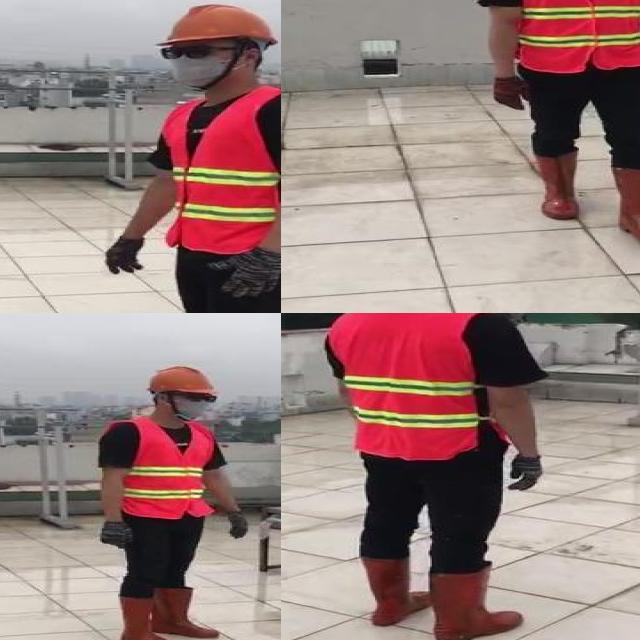boots: (424, 563, 522, 640), (355, 557, 429, 631), (150, 586, 221, 638), (533, 151, 581, 217), (118, 596, 173, 640), (611, 166, 640, 242)
face_mask: (159, 44, 233, 89), (168, 391, 218, 421)
glasses: (155, 41, 219, 61), (180, 390, 218, 404)
hand_glove: (212, 250, 281, 300), (511, 452, 550, 492), (104, 237, 141, 275), (492, 77, 527, 112), (100, 524, 136, 552), (225, 513, 253, 542)
head_helmet: (162, 1, 278, 47), (142, 366, 217, 394)
person: (324, 313, 548, 640), (89, 0, 281, 313), (89, 360, 251, 640), (479, 0, 640, 261)
vest: (330, 313, 488, 462), (160, 91, 281, 254), (109, 418, 216, 520), (510, 0, 640, 71)
